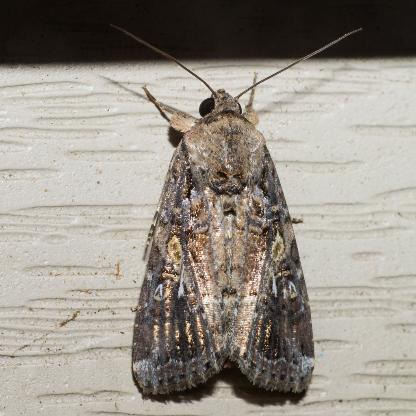Fall Armyworm Moth: (114, 22, 366, 400)
